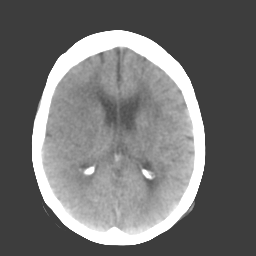ischemic: (43, 79, 99, 165)
